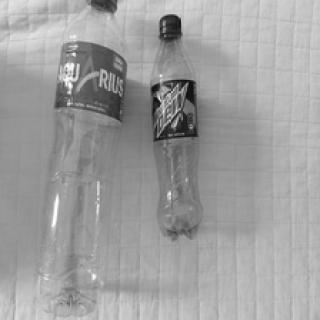plastic_bottles: (29, 1, 129, 314), (140, 10, 210, 242)
